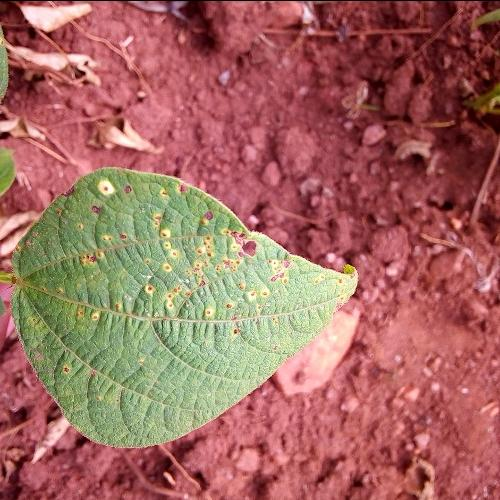hawar: (84, 155, 300, 366)
